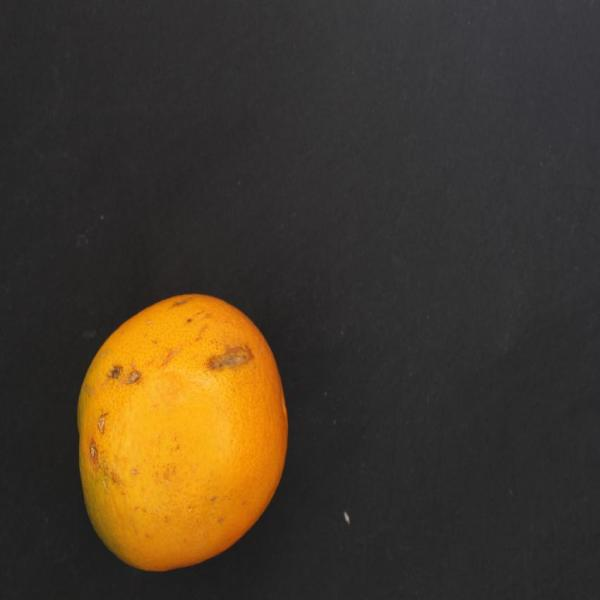Otros defectos: (71, 290, 301, 572)
